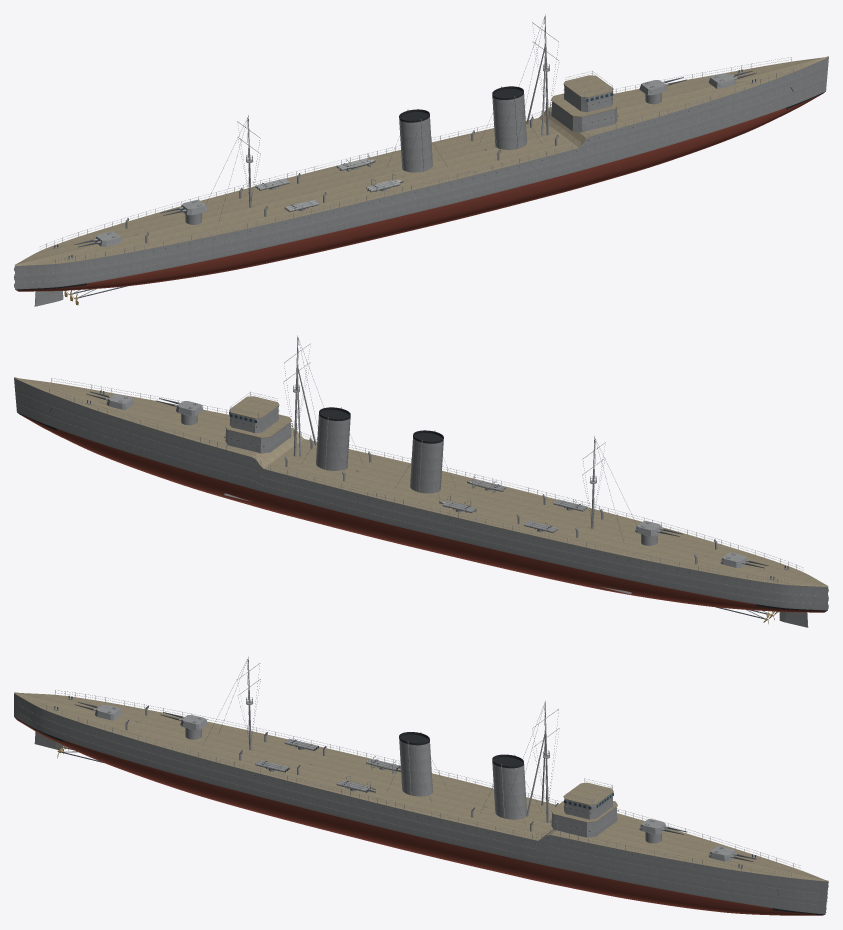
Rendered from duguay_trouin.glb.
3 views of the same model, one above another, from view 1: azimuth 30°, elevation 25°; view 2: azimuth 150°, elevation 25°; view 3: azimuth 330°, elevation 25° (orthographic).
Visible parts, largest first — view 1: Duguay-Trouin class; view 2: Duguay-Trouin class; view 3: Duguay-Trouin class.
Boxes of the visible parts, x1,y1,x2,y2 form: Duguay-Trouin class: [14, 14, 828, 306]; Duguay-Trouin class: [14, 335, 828, 627]; Duguay-Trouin class: [14, 656, 828, 915].
Size of the model in its own units: 182 by 36.2 by 17.29.
8 materials, 2 textured.
